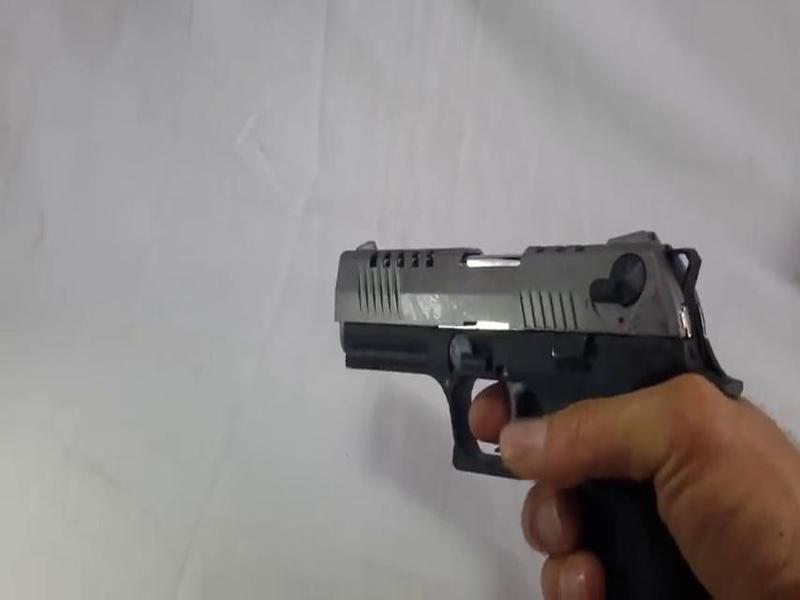Pistola: (297, 166, 752, 571)
